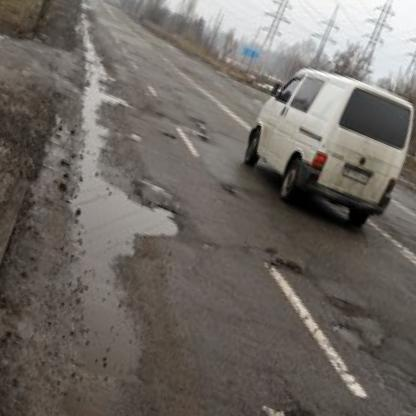pothole: (325, 317, 372, 356), (325, 293, 370, 324), (271, 398, 337, 416), (223, 186, 236, 197), (164, 131, 178, 140)
